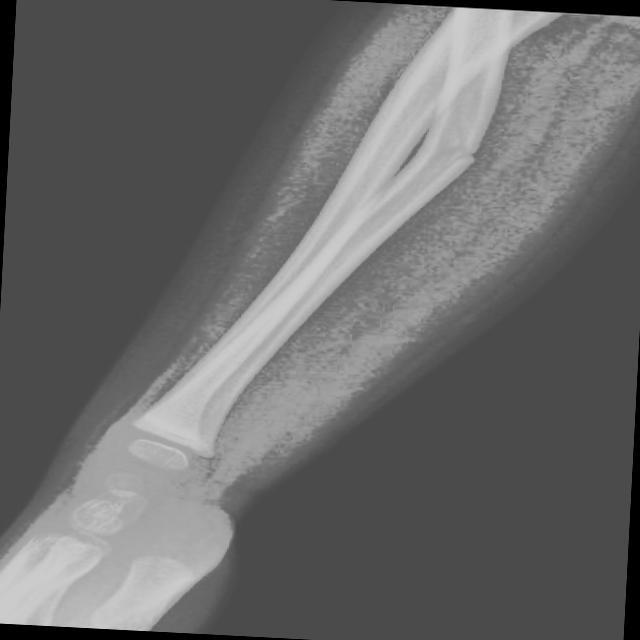GreenStick Fracture: (445, 132, 490, 197)
